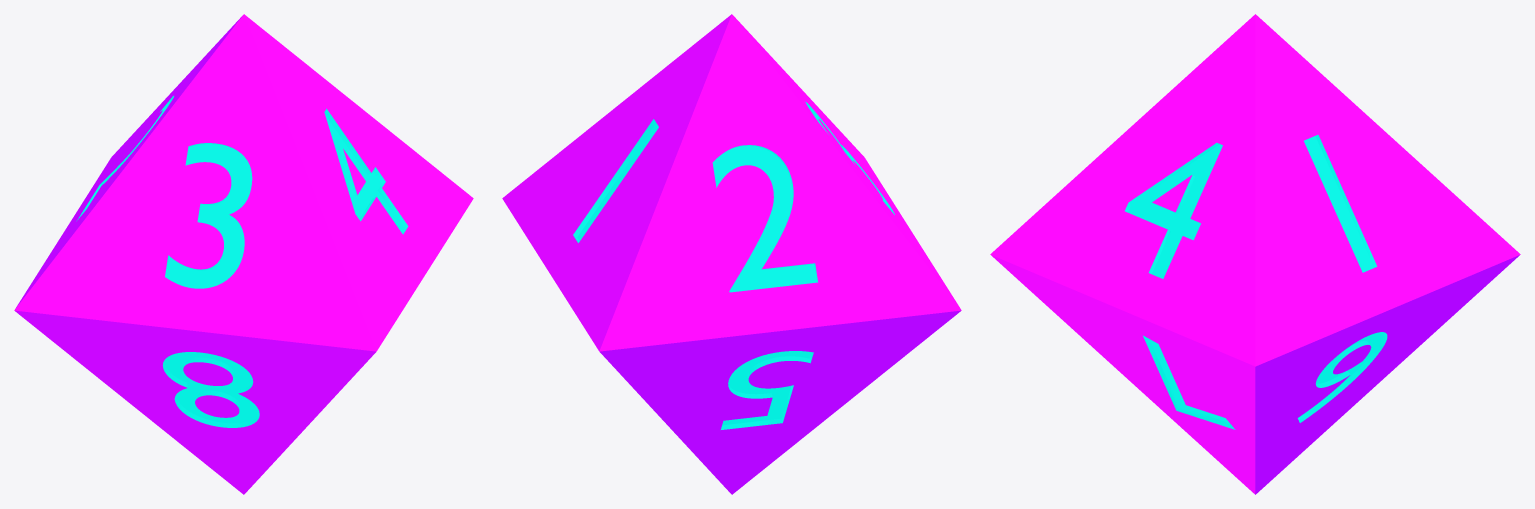
The picture shows the model from 3 angles, left to right: view 1: azimuth 30°, elevation 25°; view 2: azimuth 150°, elevation 25°; view 3: azimuth 270°, elevation 25°; orthographic projection.
Parts seen in each view (by area): view 1: d8.001; view 2: d8.001; view 3: d8.001.
Boxes of the visible parts, x1,y1,x2,y2 form: d8.001: (14,14,473,494); d8.001: (502,14,961,494); d8.001: (990,14,1520,494).
Bounding box in the file's own units: 2 × 2 × 2.
